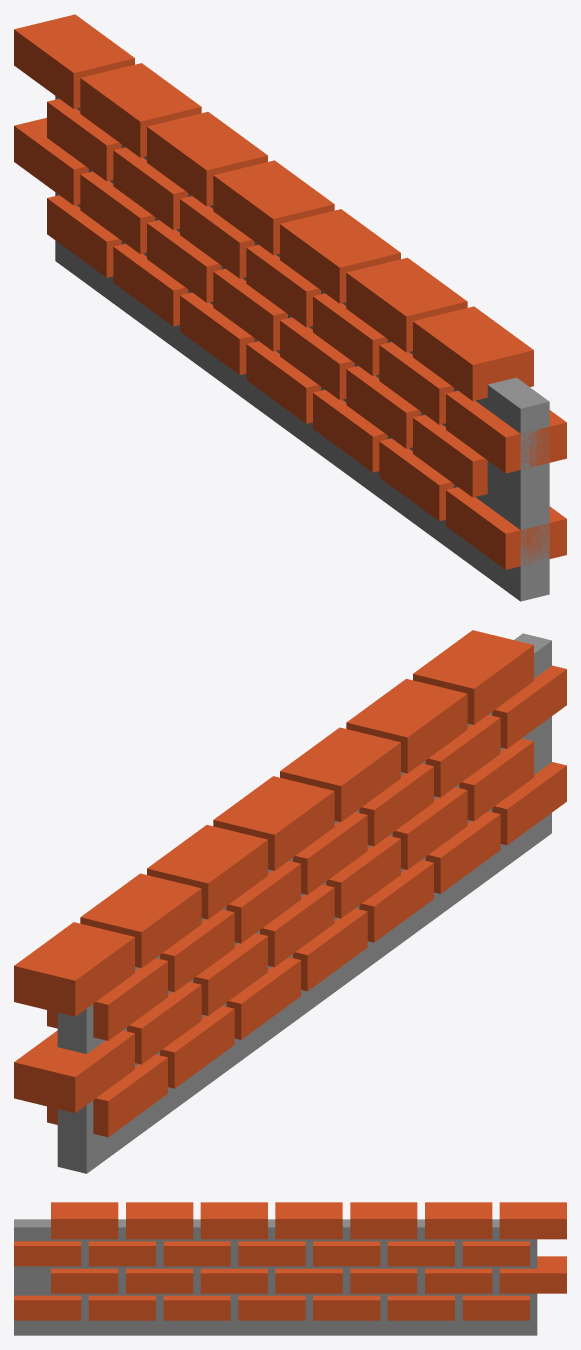
File: wall.fbx
The picture shows the model from 3 angles, top to bottom: view 1: azimuth 30°, elevation 25°; view 2: azimuth 150°, elevation 25°; view 3: azimuth 270°, elevation 25°; orthographic projection. The views are drawn at different scales.
Visible parts, largest first — view 1: Cube.001, Plane; view 2: Cube.001, Plane; view 3: Cube.001, Plane.
Part boxes in pixels (left/top/right/bottom): Cube.001: left=14, top=14, right=566, bottom=569; Plane: left=55, top=96, right=549, bottom=601; Cube.001: left=14, top=630, right=566, bottom=1137; Plane: left=57, top=633, right=551, bottom=1173; Cube.001: left=14, top=1202, right=566, bottom=1320; Plane: left=14, top=1219, right=537, bottom=1335.
Bounding box in the file's own units: 53.23 × 179 × 740.
